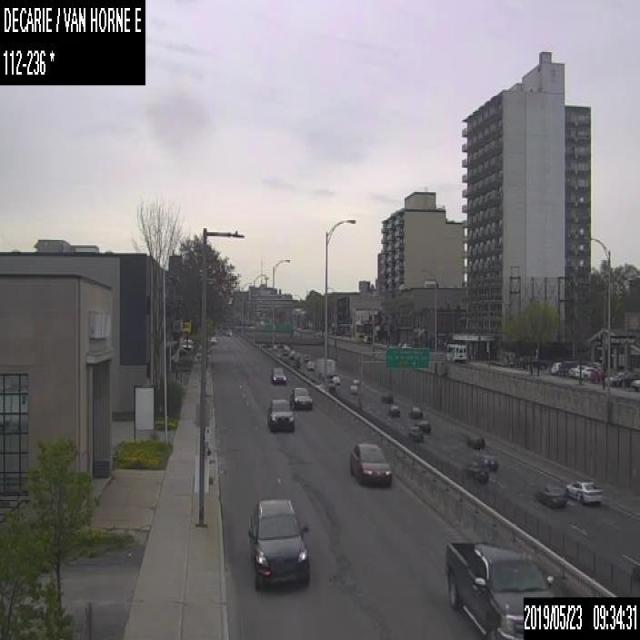bus: (444, 343, 466, 361)
vehicle: (443, 538, 558, 638), (247, 497, 309, 588), (348, 441, 392, 484), (535, 477, 567, 507), (266, 398, 294, 431), (566, 480, 603, 502), (290, 385, 312, 410), (611, 372, 639, 387), (314, 357, 334, 377), (466, 462, 487, 481), (478, 454, 498, 469), (604, 371, 624, 385), (574, 365, 594, 379), (559, 360, 577, 374), (466, 435, 484, 449), (271, 366, 286, 382), (406, 426, 422, 440), (568, 364, 586, 376), (414, 420, 430, 432), (380, 389, 393, 402), (408, 405, 422, 417), (630, 561, 639, 579), (386, 405, 400, 416), (582, 367, 594, 378), (181, 338, 192, 349), (550, 361, 560, 373), (324, 378, 334, 390), (631, 378, 639, 390), (330, 374, 340, 383), (306, 359, 314, 370), (349, 383, 357, 392), (224, 326, 232, 334), (302, 353, 308, 360), (352, 377, 359, 383), (288, 352, 294, 358), (210, 336, 216, 342), (282, 348, 287, 354)
